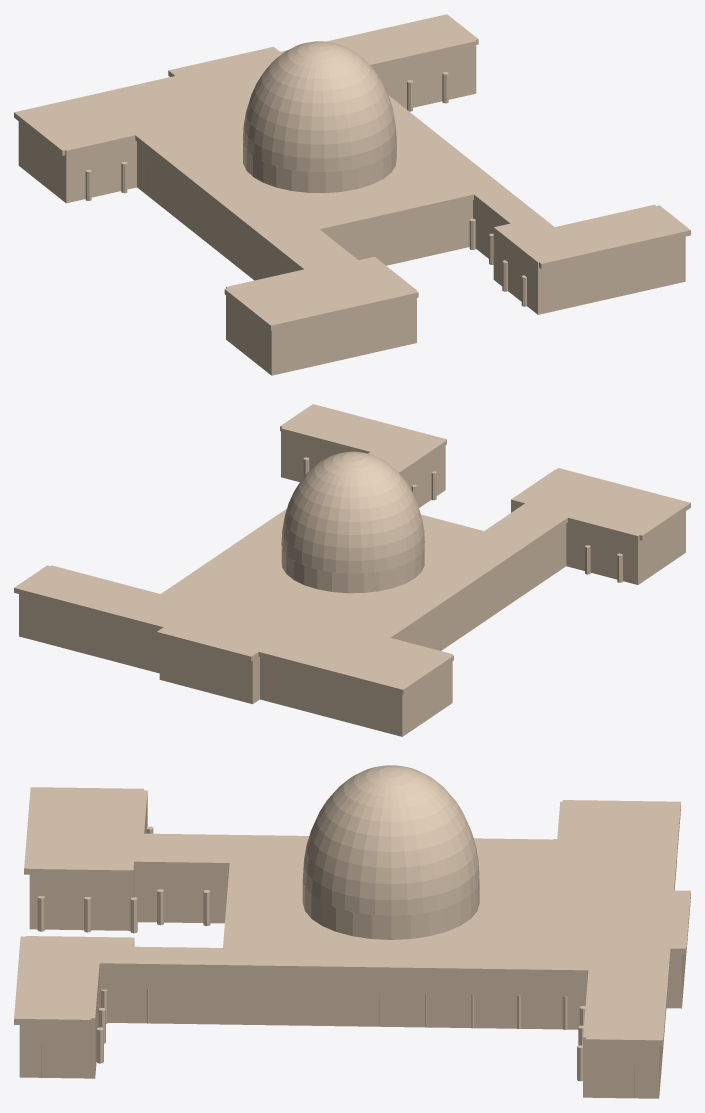
The model's file is rashtrapati-bhavan_lod0.glb.
The picture shows the model from 3 angles, top to bottom: view 1: azimuth 30°, elevation 25°; view 2: azimuth 150°, elevation 25°; view 3: azimuth 270°, elevation 25°; orthographic projection. The views are drawn at different scales.
Visible parts, largest first — view 1: rashtrapati-bhavan; view 2: rashtrapati-bhavan; view 3: rashtrapati-bhavan.
Boxes of the visible parts, x1,y1,x2,y2 form: rashtrapati-bhavan: (14, 14, 690, 375); rashtrapati-bhavan: (14, 404, 690, 736); rashtrapati-bhavan: (14, 765, 690, 1098).
Size of the model in its own units: 180 by 63.42 by 203.
